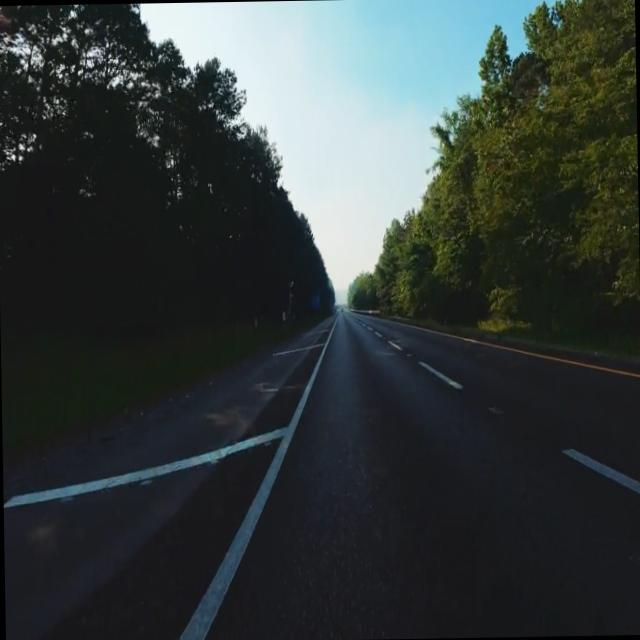asphalt: (207, 313, 640, 640)
